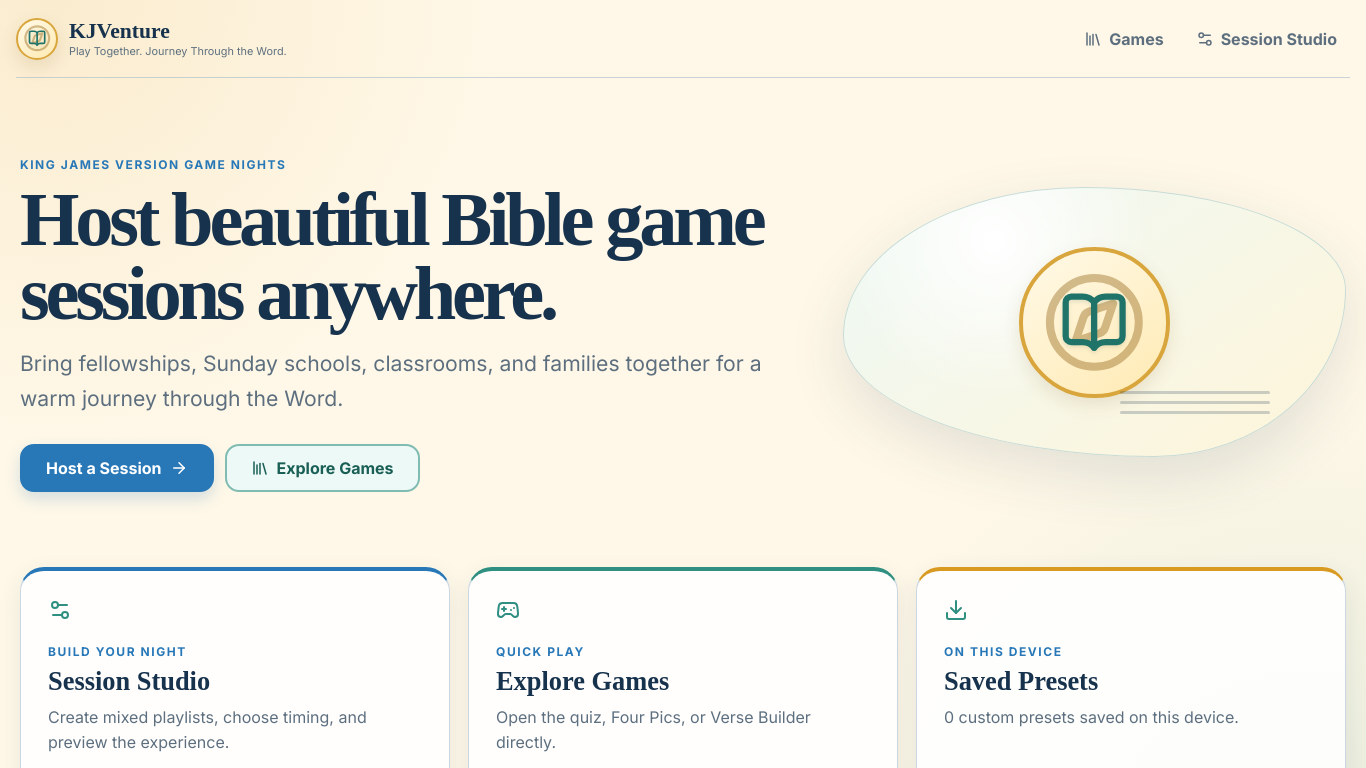
Test: KJVenture application › opens either existing game from Explore Games
Expected: the heading "Host beautiful Bible game sessions anywhere." is shown, [20,183,775,330]
Click the button "Explore Games" at (322,468), box [224,444,420,492]
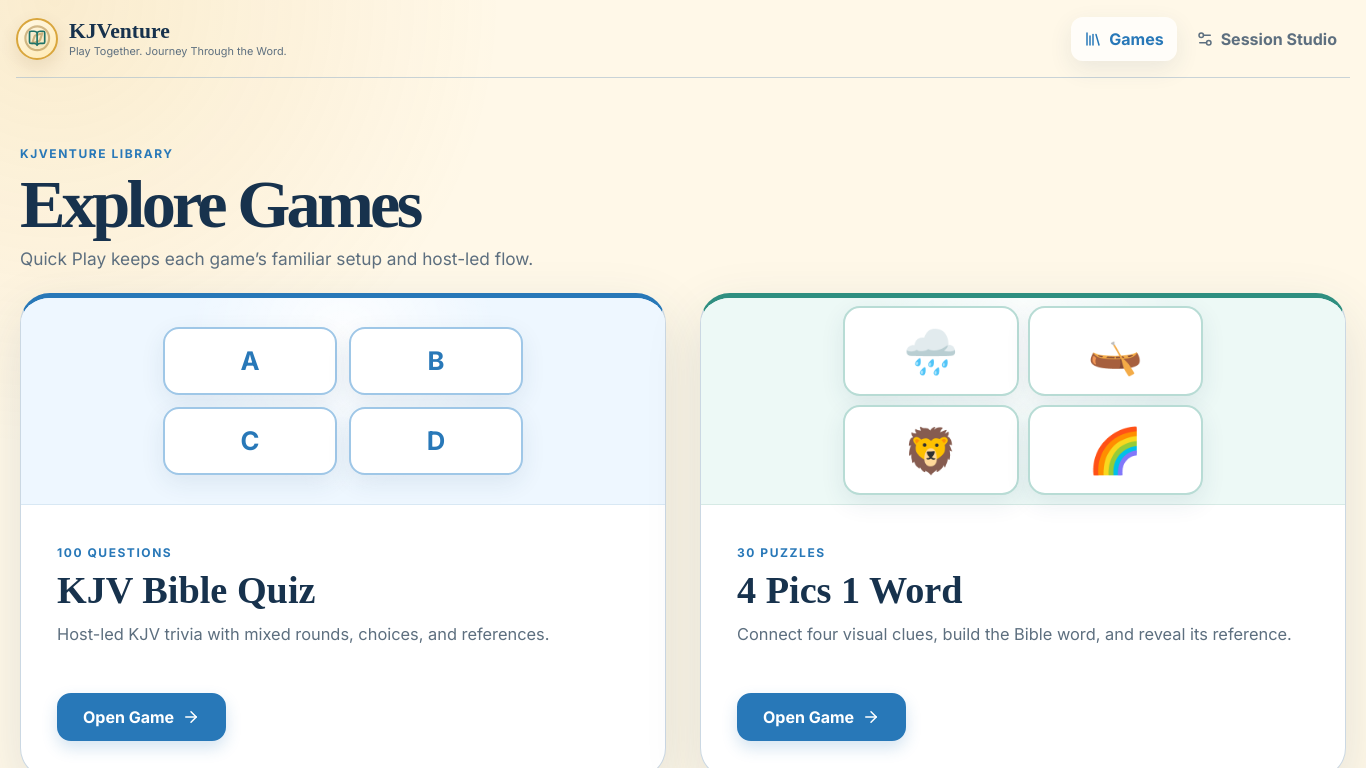
Expected: the heading "Explore Games" is shown, [20,166,420,242]
Click the button "Open Game" below "KJV Bible Quiz" at (142,717), box [57,693,226,741]
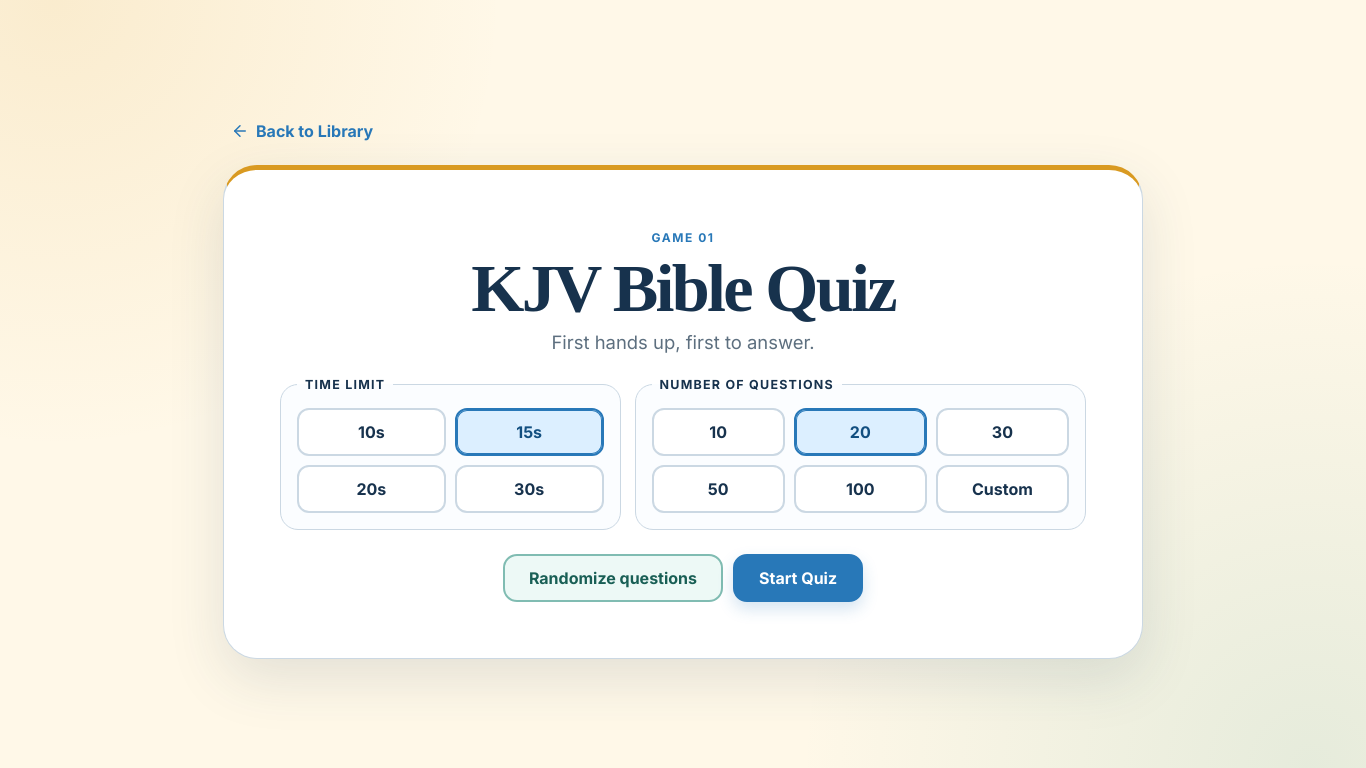
Expected: the button "Start Quiz" is shown, [733,554,863,602]
